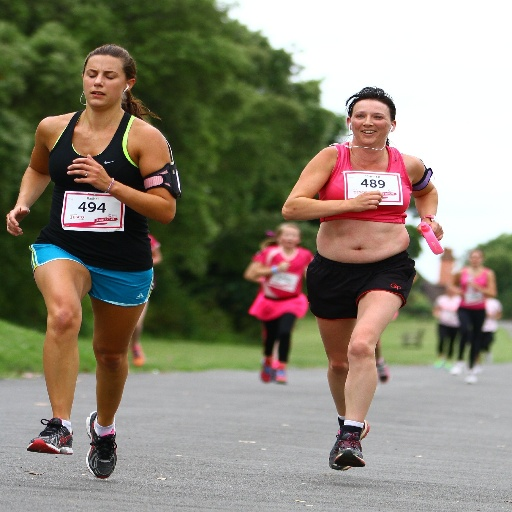hand: (62, 152, 113, 193), (5, 204, 31, 240), (350, 188, 382, 212), (416, 218, 443, 240), (278, 260, 290, 272)
